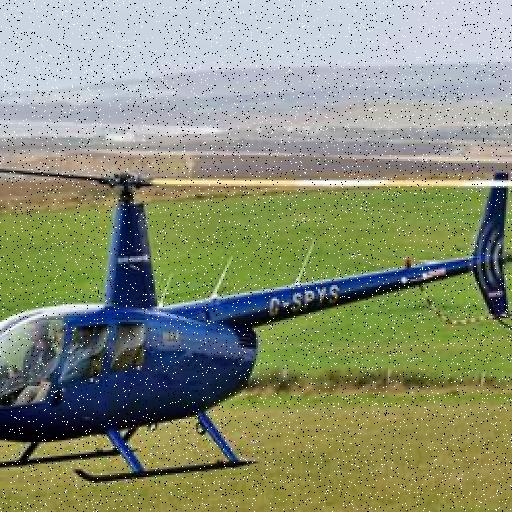helicopter: (1, 154, 512, 488)
